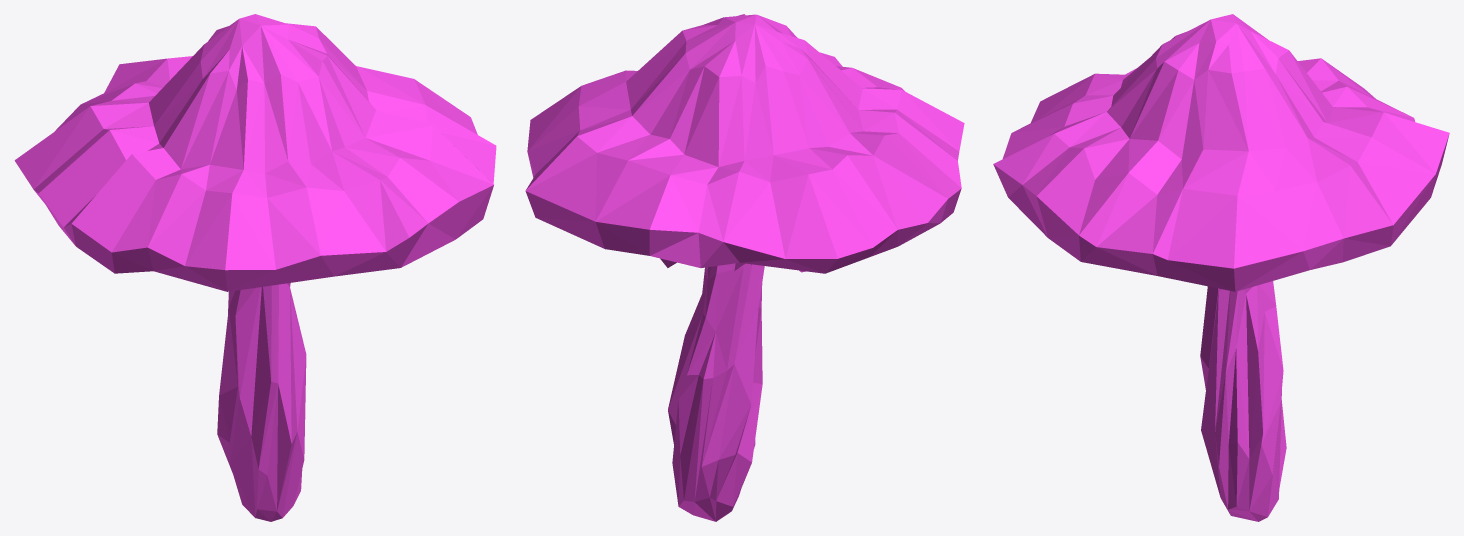
The model's file is SM_Mushroom_Glow_Medium_B_Fantasy.fbx.
3 renders of one model, left to right at view 1: azimuth 30°, elevation 25°; view 2: azimuth 150°, elevation 25°; view 3: azimuth 270°, elevation 25°, orthographic. The views are drawn at different scales.
Parts seen in each view (by area): view 1: SM_Mushroom_Glow_Medium_B_Fantasy; view 2: SM_Mushroom_Glow_Medium_B_Fantasy; view 3: SM_Mushroom_Glow_Medium_B_Fantasy.
Part boxes in pixels (box(x1,y1,x2,y2)): SM_Mushroom_Glow_Medium_B_Fantasy: box(14, 14, 496, 521); SM_Mushroom_Glow_Medium_B_Fantasy: box(525, 14, 964, 521); SM_Mushroom_Glow_Medium_B_Fantasy: box(993, 14, 1449, 521).
Bounding box in the file's own units: 0.9888 × 1.16 × 0.9916.
